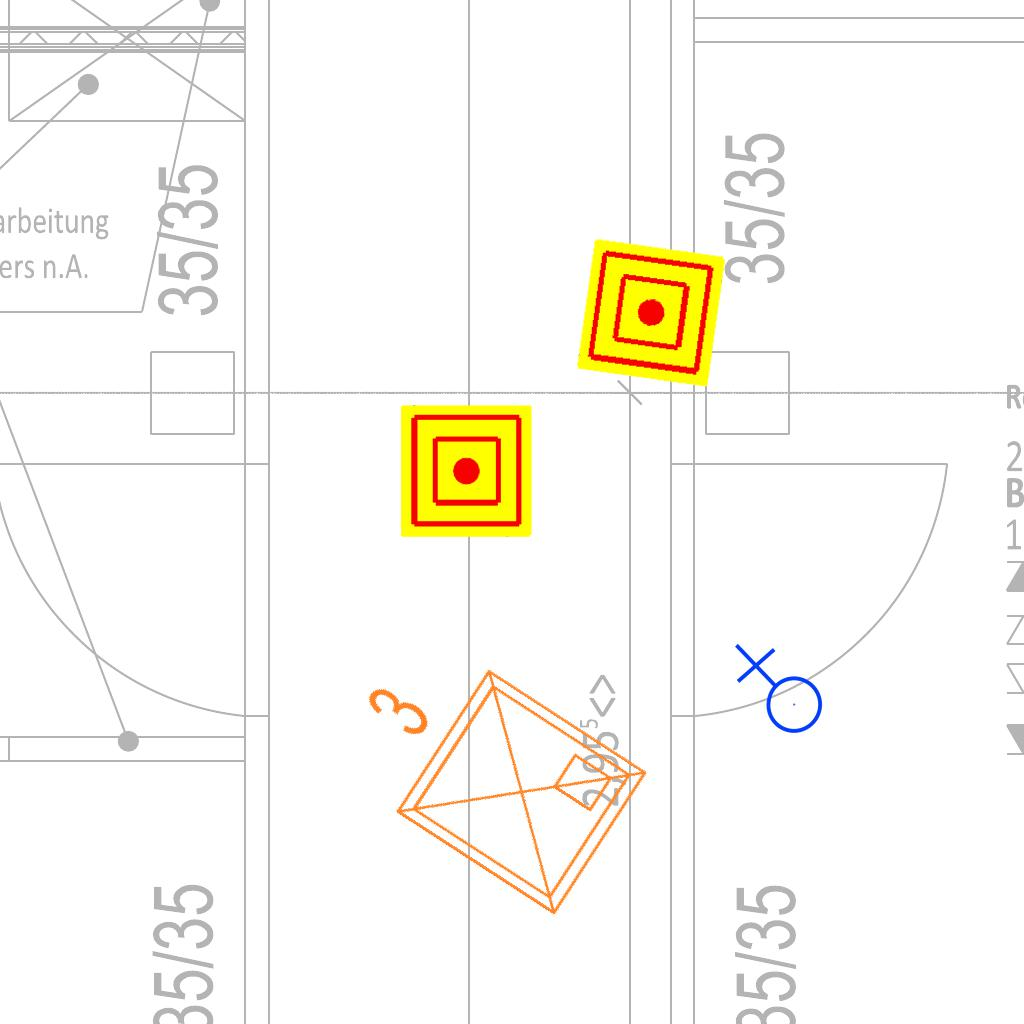Einbaudownlights_LED_Konferenzraeume: (302, 604, 668, 942)
Elektroanschluss_allgemein_230V_Geraeteanschlussdose_230V: (730, 643, 824, 742)
NAM-Nichtautomatischer_Melder: (576, 238, 726, 388), (400, 405, 532, 537)
